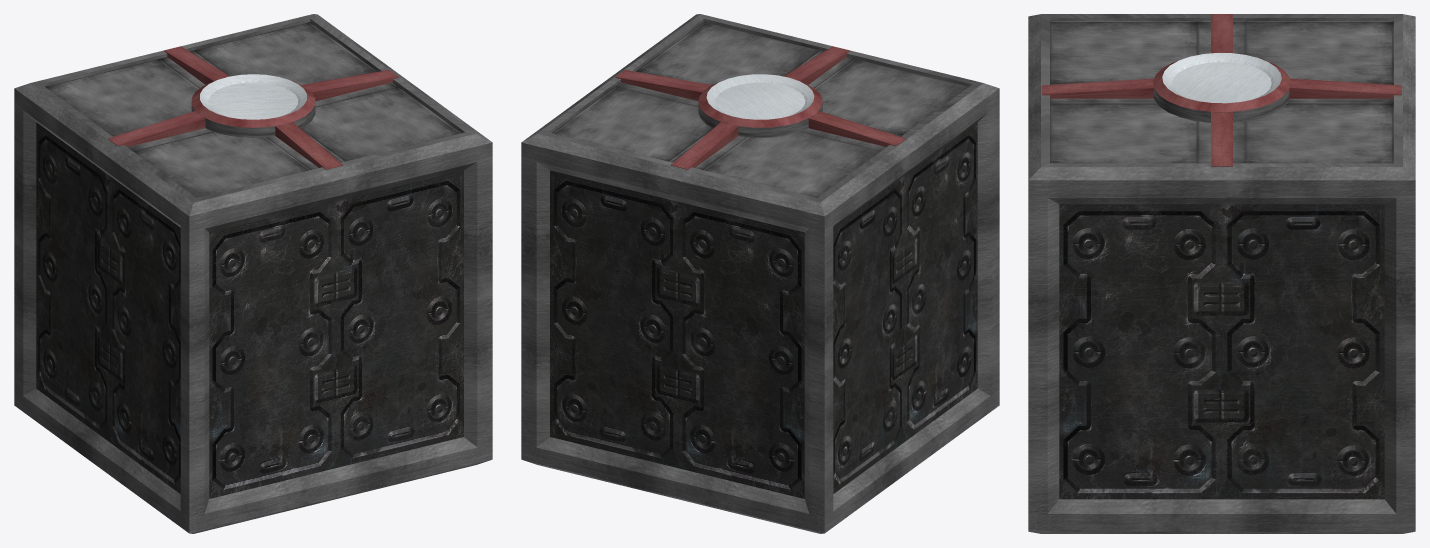
File: SmallStorageBox.fbx
The picture shows the model from 3 angles, left to right: view 1: azimuth 30°, elevation 25°; view 2: azimuth 150°, elevation 25°; view 3: azimuth 270°, elevation 25°; orthographic projection. The views are drawn at different scales.
Parts seen in each view (by area): view 1: pCube1, pCylinder1, pasted__pCube2 (×3), pCube2; view 2: pCube1, pCylinder1, pasted__pCube2 (×3), pCube2; view 3: pCube1, pCylinder1, pasted__pCube2 (×3), pCube2.
Part boxes in pixels (x1,y1,x2,y2): pCube1: [14, 14, 492, 533]; pCylinder1: [191, 74, 315, 137]; pasted__pCube2 (×3): [108, 46, 343, 169]; pCube2: [302, 70, 398, 101]; pCube1: [521, 14, 999, 533]; pCylinder1: [698, 74, 822, 137]; pasted__pCube2 (×3): [670, 46, 905, 169]; pCube2: [615, 70, 711, 101]; pCube1: [1028, 14, 1415, 533]; pCylinder1: [1153, 53, 1290, 122]; pasted__pCube2 (×3): [1042, 14, 1401, 98]; pCube2: [1211, 112, 1232, 166].
Size of the model in its own units: 3 by 3.24 by 3.
5 materials, 5 textured.
